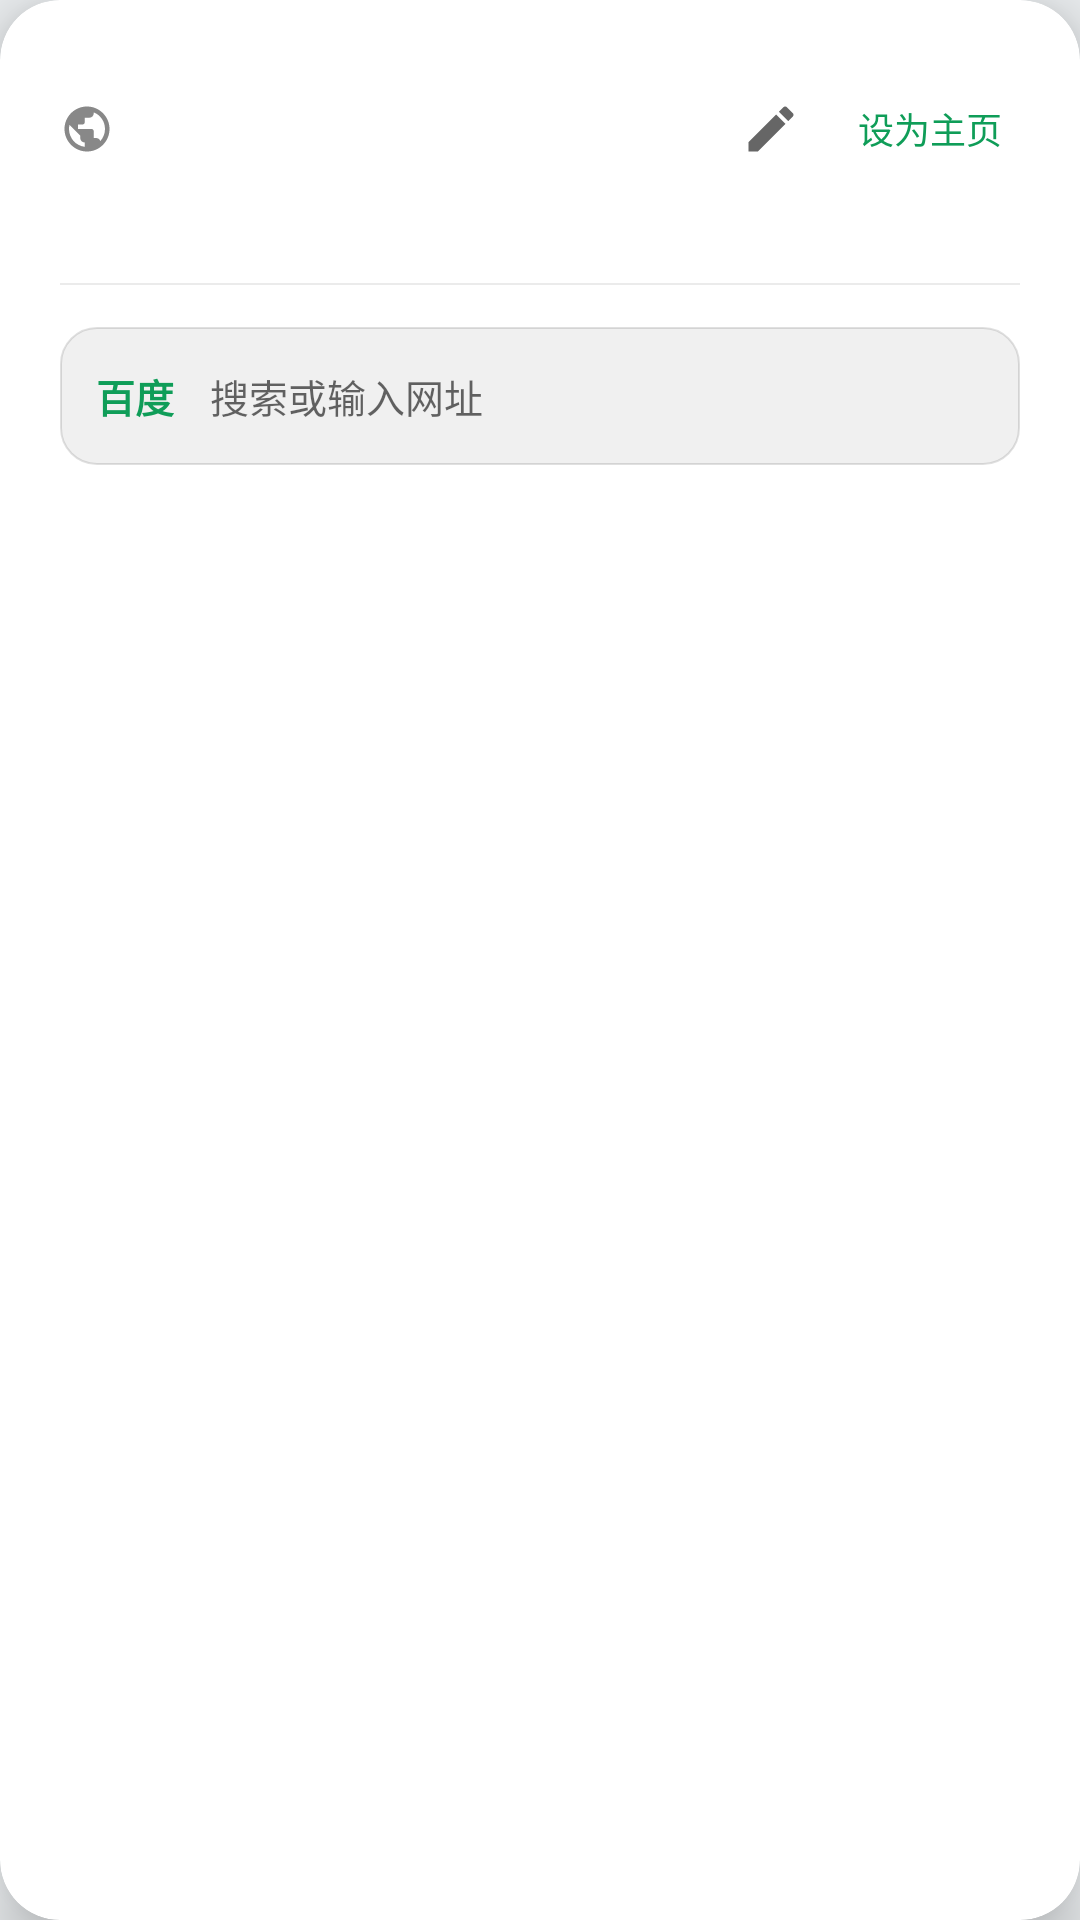

Named icons in this screenshot (1080*1920) and their bounding boxes, bbox=[x1, y1, x2, y2]:
browser edit: bbox=[748, 106, 794, 152]
browser globe: bbox=[64, 106, 110, 152]
